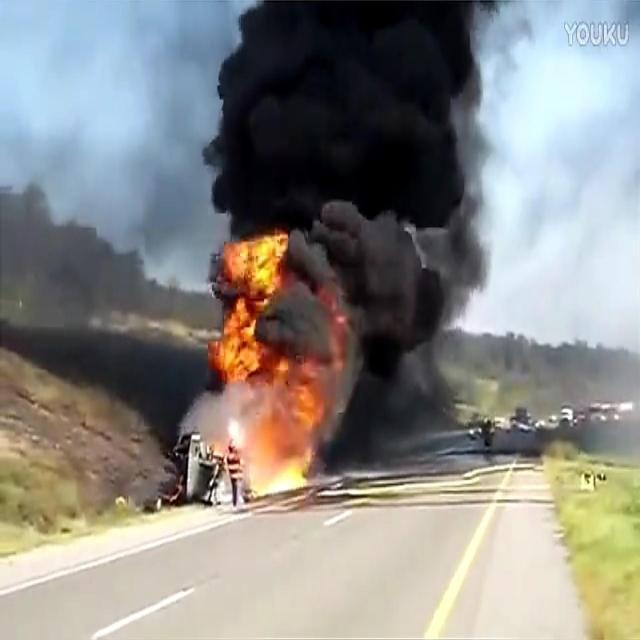Fire: (210, 230, 347, 500)
Smoke: (172, 0, 534, 448)
